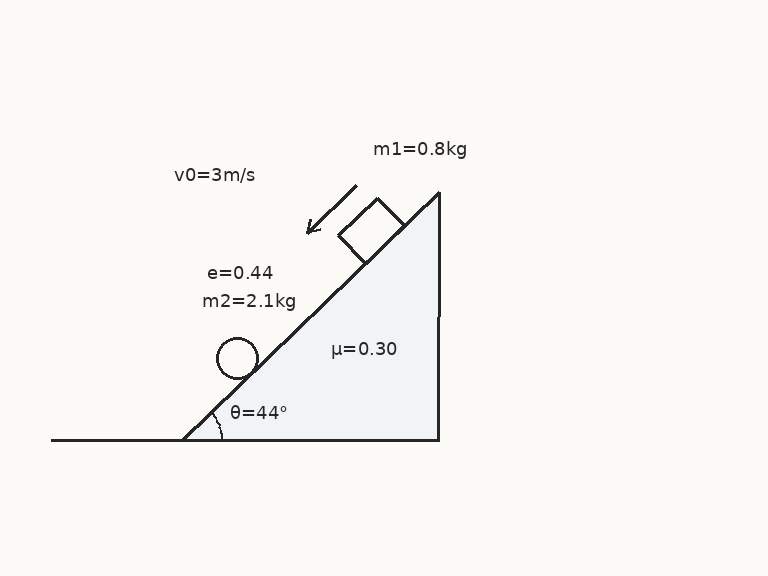ball: (214, 335, 260, 381)
block: (336, 196, 406, 265)
ramp: (180, 190, 441, 442)
